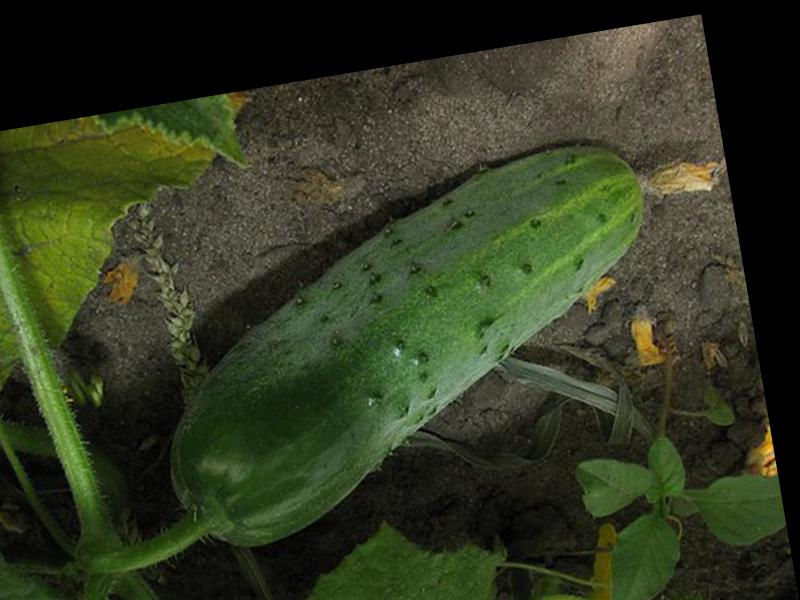Cucumber: (128, 119, 767, 557)
